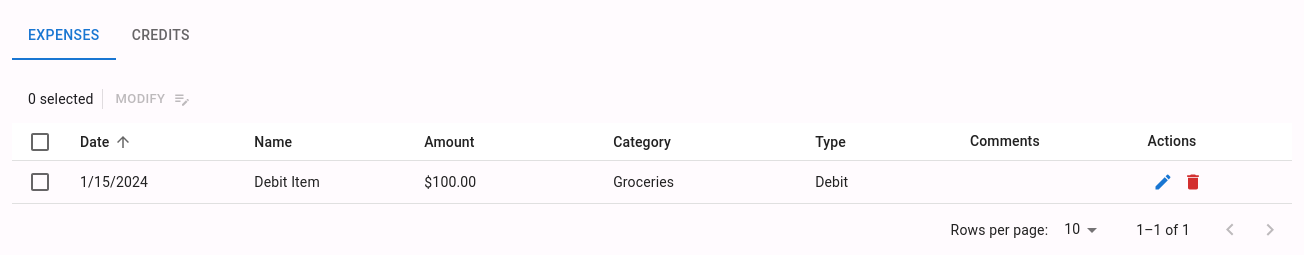
it: FileImportReview › tabs rendering › should show credits when Credits tab is clicked
Click the tab "Credits".
click(161, 36)  # box [116,12,206,60]
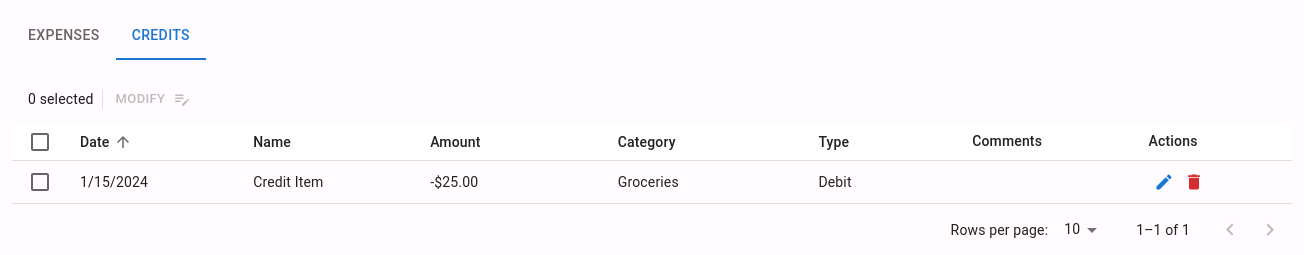
expect the text "Credit Item" is shown: met, box [237,161,414,204]
